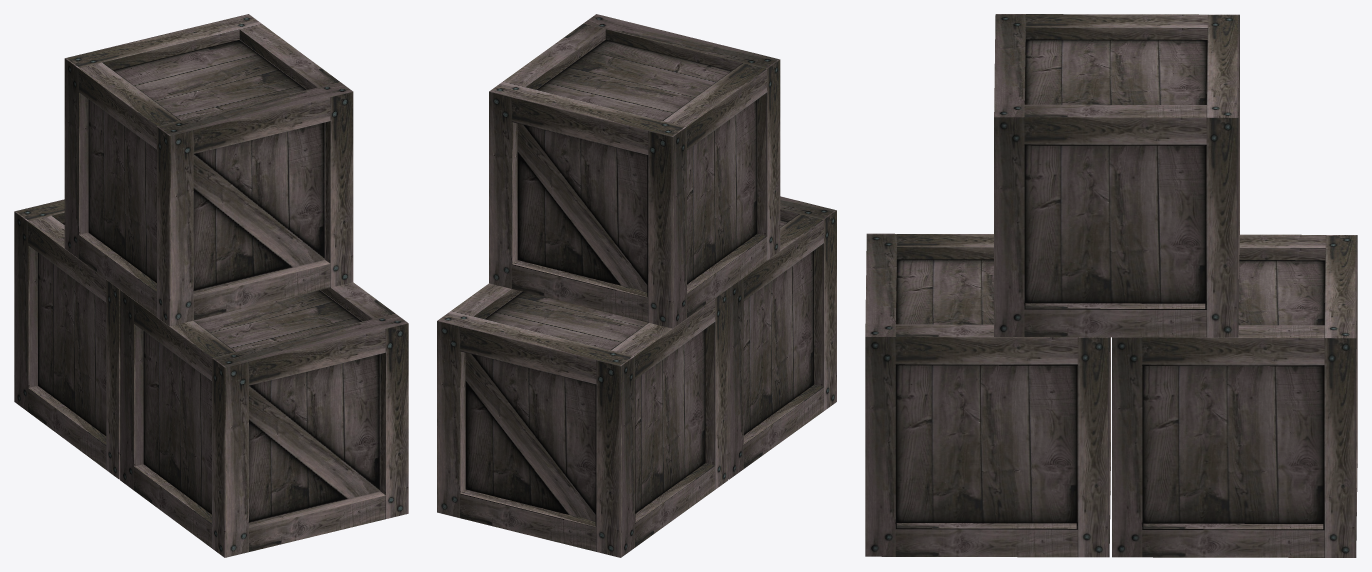
File: boxstack.fbx
The picture shows the model from 3 angles, left to right: view 1: azimuth 30°, elevation 25°; view 2: azimuth 150°, elevation 25°; view 3: azimuth 270°, elevation 25°; orthographic projection. The views are drawn at different scales.
Visible parts, largest first — view 1: polySurface4; view 2: polySurface4; view 3: polySurface4.
Boxes of the visible parts, x1,y1,x2,y2 form: polySurface4: (14, 14, 408, 557); polySurface4: (437, 14, 836, 557); polySurface4: (865, 14, 1357, 557).
Size of the model in its own units: 14.11 by 27.7 by 28.1.
2 materials, 2 textured.
